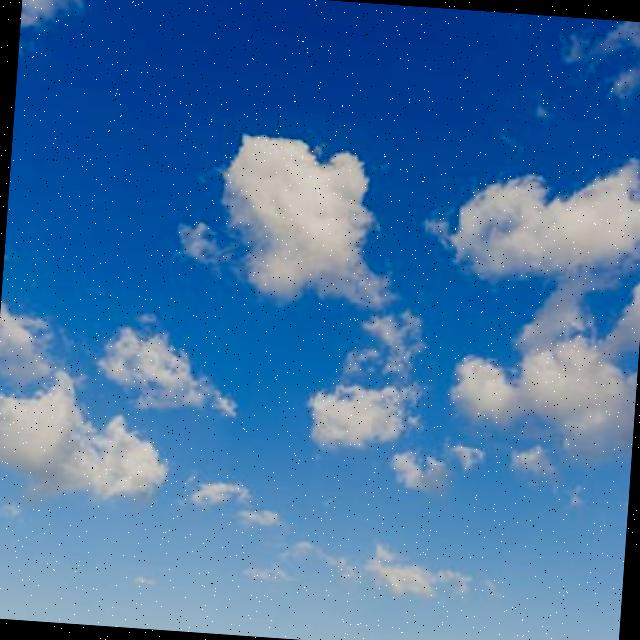Cc: (195, 121, 640, 487)
